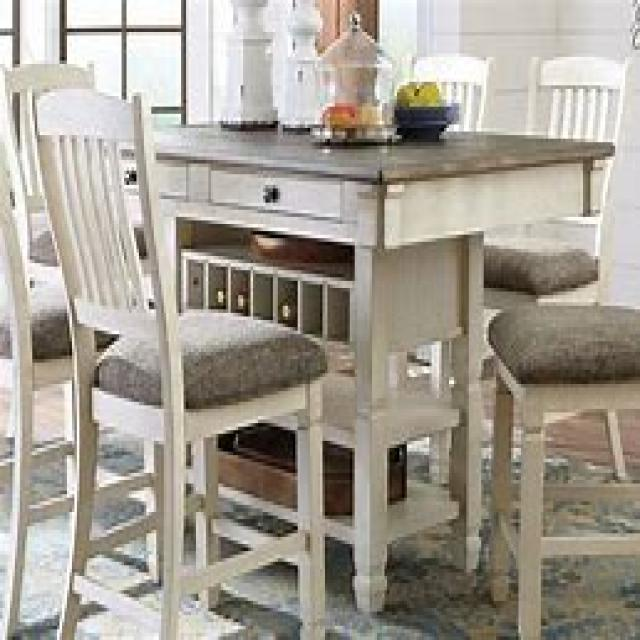chair: (28, 82, 328, 636)
table: (30, 114, 615, 612)
